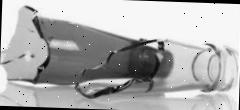glass: (0, 4, 176, 92), (74, 36, 240, 104)
